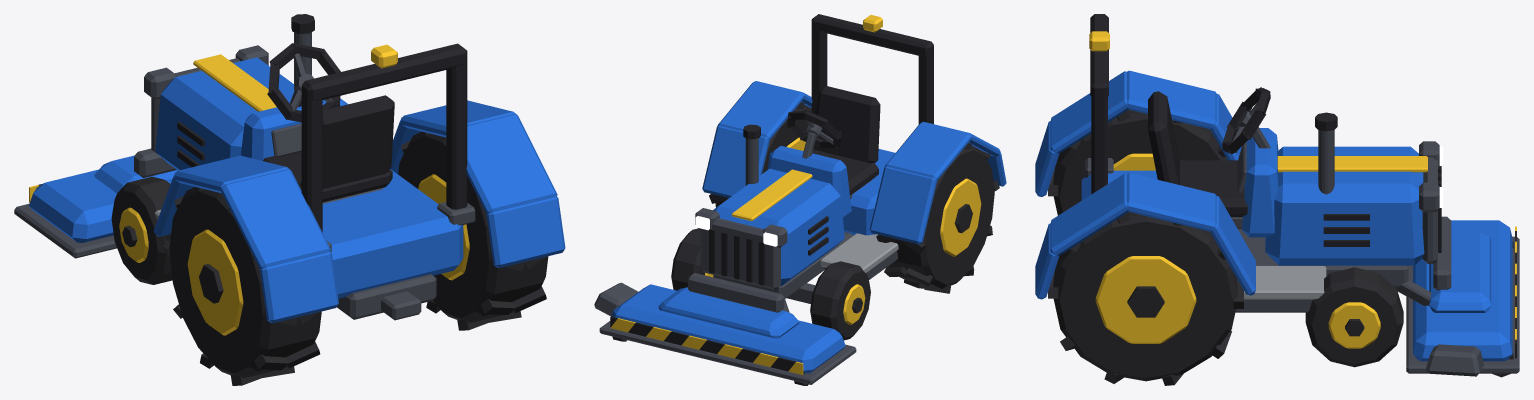
The model's file is mower_tractor.glb.
The picture shows the model from 3 angles, left to right: view 1: azimuth 30°, elevation 25°; view 2: azimuth 150°, elevation 25°; view 3: azimuth 270°, elevation 25°; orthographic projection. The views are drawn at different scales.
Visible parts, largest first — view 1: SmoothPlastic__2670DE, Plastic__28282C, SmoothPlastic__222228, Metal__464A54, SmoothPlastic__FCC828; view 2: SmoothPlastic__2670DE, SmoothPlastic__222228, Plastic__28282C, Metal__464A54, SmoothPlastic__FCC828, DiamondPlate__969AA0, Neon__FFF4BE; view 3: SmoothPlastic__2670DE, Plastic__28282C, Metal__464A54, SmoothPlastic__FCC828, SmoothPlastic__222228, DiamondPlate__969AA0.
Part boxes in pixels (left/top/right/bottom): SmoothPlastic__2670DE: left=29, top=57, right=565, bottom=323; Plastic__28282C: left=111, top=131, right=548, bottom=385; SmoothPlastic__222228: left=38, top=14, right=467, bottom=232; Metal__464A54: left=14, top=32, right=475, bottom=320; SmoothPlastic__FCC828: left=29, top=44, right=469, bottom=335; SmoothPlastic__2670DE: left=611, top=81, right=1006, bottom=373; SmoothPlastic__222228: left=610, top=14, right=933, bottom=371; Plastic__28282C: left=612, top=102, right=999, bottom=385; Metal__464A54: left=594, top=120, right=897, bottom=384; SmoothPlastic__FCC828: left=610, top=15, right=981, bottom=374; DiamondPlate__969AA0: left=820, top=233, right=898, bottom=272; Neon__FFF4BE: left=695, top=216, right=777, bottom=246; SmoothPlastic__2670DE: left=1035, top=70, right=1512, bottom=361; Plastic__28282C: left=1048, top=109, right=1513, bottom=385; Metal__464A54: left=1085, top=100, right=1519, bottom=376; SmoothPlastic__FCC828: left=1089, top=31, right=1516, bottom=348; SmoothPlastic__222228: left=1090, top=14, right=1516, bottom=358; DiamondPlate__969AA0: left=1244, top=266, right=1326, bottom=299.
Size of the model in its own units: 6.74 by 6.18 by 9.4.
